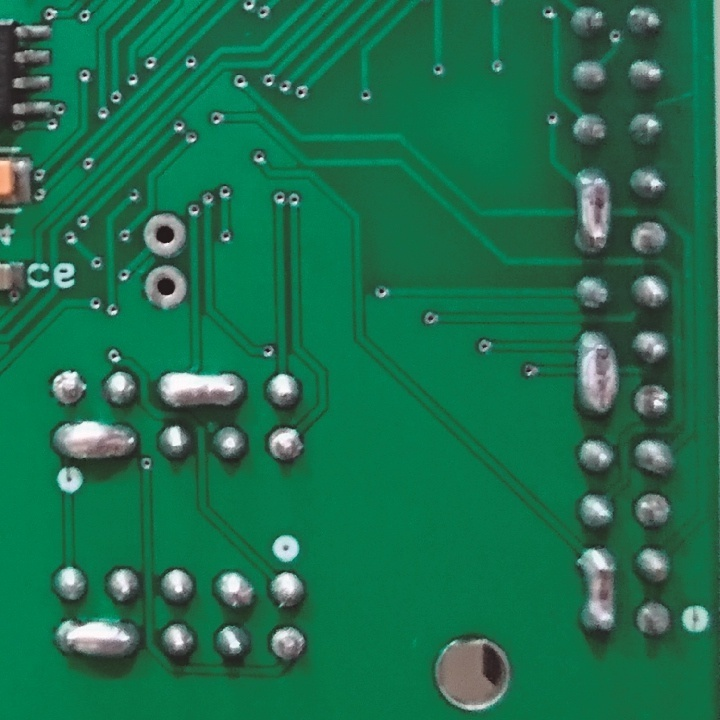F: (139, 263, 187, 313), (141, 212, 188, 259), (269, 622, 307, 667), (633, 600, 678, 638), (632, 380, 673, 420), (633, 491, 672, 532), (267, 425, 306, 465), (632, 218, 670, 255), (47, 369, 86, 403)
P: (153, 366, 247, 412), (53, 617, 140, 666), (576, 328, 621, 420), (578, 546, 620, 638), (47, 420, 139, 461), (571, 165, 612, 252)
